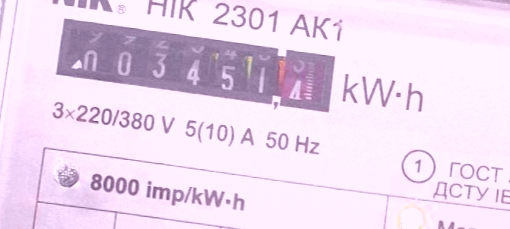0: (79, 45, 102, 74), (114, 48, 136, 78)
1: (253, 63, 272, 95)
3: (149, 48, 171, 81)
4: (182, 55, 205, 89), (284, 75, 307, 105)
5: (218, 61, 238, 93)
screen: (48, 12, 344, 121)
